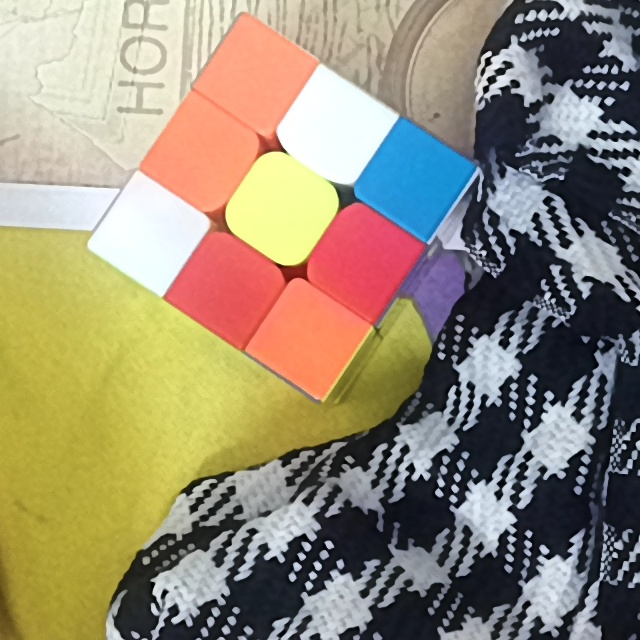tile: (272, 308, 343, 371), (329, 227, 394, 293), (223, 42, 290, 105), (196, 256, 263, 318), (382, 149, 447, 212), (172, 125, 240, 185), (255, 176, 315, 243), (304, 97, 367, 160), (120, 203, 180, 267)
